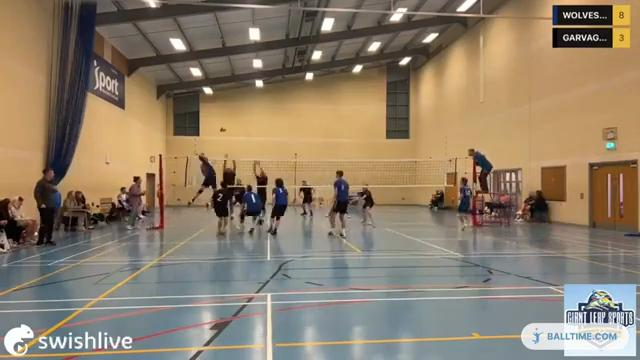Attack: (179, 147, 220, 214)
Block: (219, 147, 238, 222)
Player: (329, 170, 348, 236), (268, 178, 288, 235), (212, 182, 230, 235), (253, 161, 267, 224), (243, 185, 261, 234), (457, 177, 471, 229), (359, 185, 374, 226), (299, 180, 314, 215), (233, 179, 244, 225)
ball: (218, 126, 229, 133)
